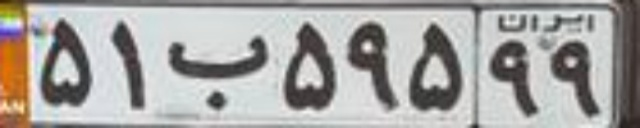1: (108, 20, 145, 108)
5: (282, 20, 337, 111), (37, 16, 90, 108), (408, 21, 461, 112)
9: (346, 20, 398, 112), (549, 37, 604, 118), (489, 38, 541, 116)
be: (167, 34, 271, 109)
